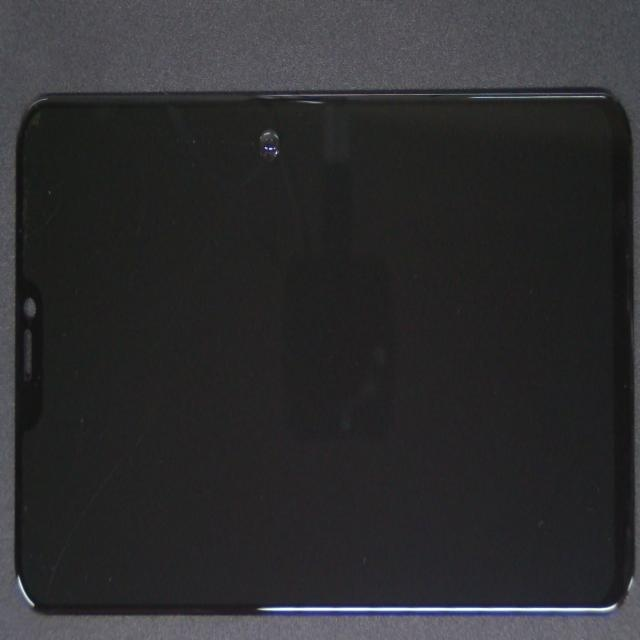oil: (140, 36, 391, 178)
